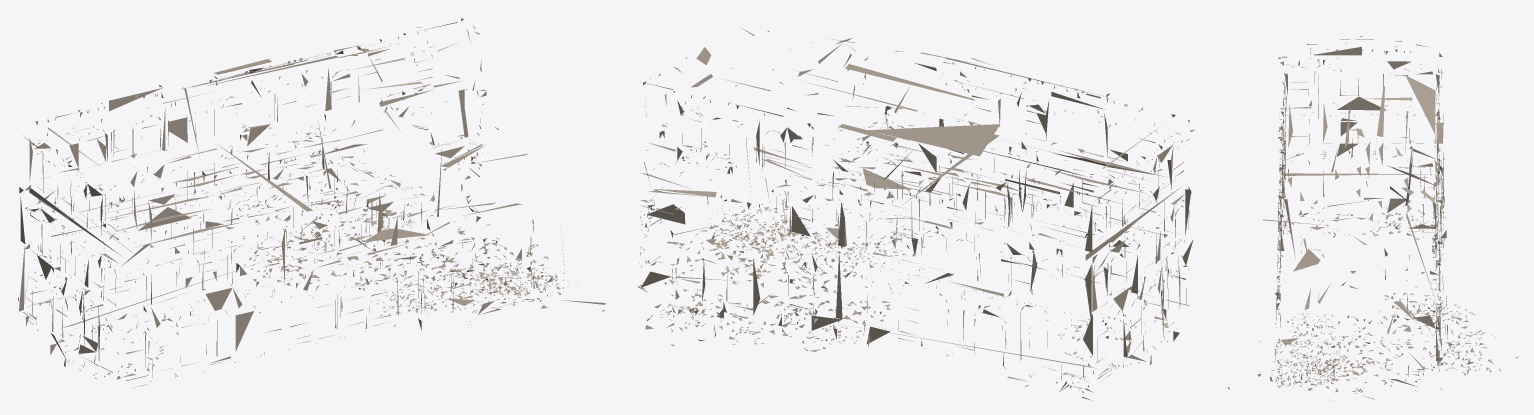
Rendered from collapsed-facade-a.glb.
3 views of the same model, side by side, from view 1: azimuth 30°, elevation 25°; view 2: azimuth 150°, elevation 25°; view 3: azimuth 270°, elevation 25° (orthographic). The views are drawn at different scales.
Visible parts, largest first — view 1: collapsed-facade-a; view 2: collapsed-facade-a; view 3: collapsed-facade-a.
Part boxes in pixels (left/top/right/bottom): collapsed-facade-a: left=18, top=18, right=605, bottom=387; collapsed-facade-a: left=636, top=27, right=1194, bottom=400; collapsed-facade-a: left=1228, top=36, right=1518, bottom=400.
Bounding box in the file's own units: 1 × 0.5327 × 0.6469.
